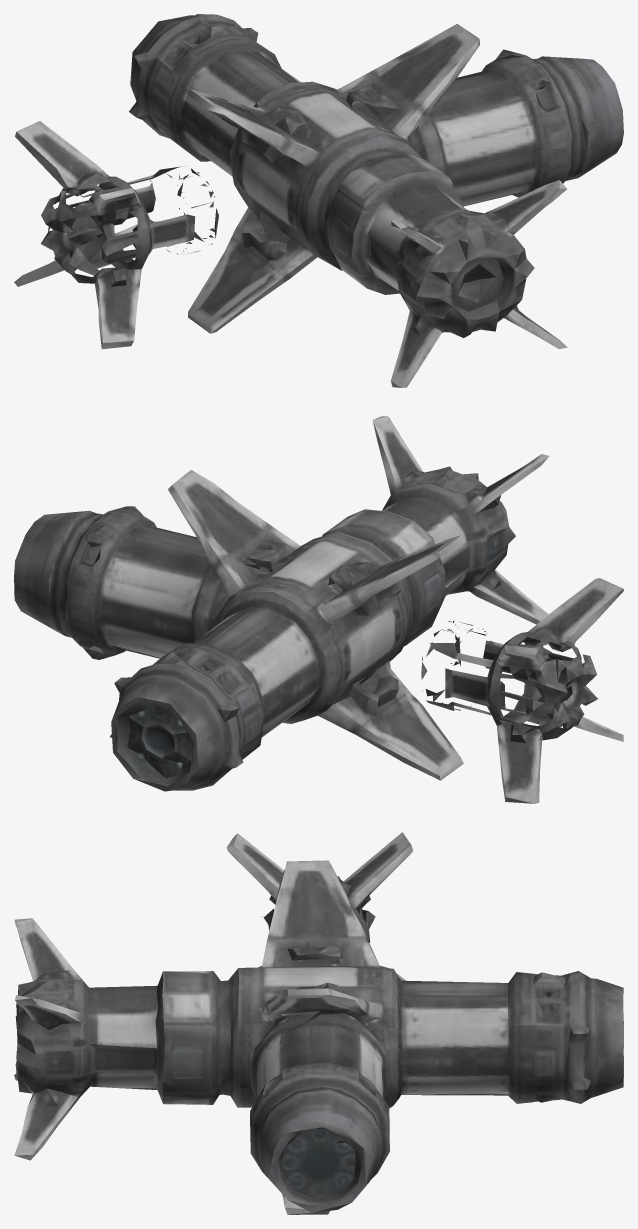
3 renders of one model, top to bottom at view 1: azimuth 30°, elevation 25°; view 2: azimuth 150°, elevation 25°; view 3: azimuth 270°, elevation 25°, orthographic. The views are drawn at different scales.
Parts seen in each view (by area): view 1: body; view 2: body; view 3: body.
Part boxes in pixels (x1,y1,x2,y2): body: (14,14,623,387); body: (14,416,623,803); body: (14,832,623,1214).
Size of the model in its own units: 1.4 by 0.567 by 1.39.
Materials: 1 (1 with a texture image).
